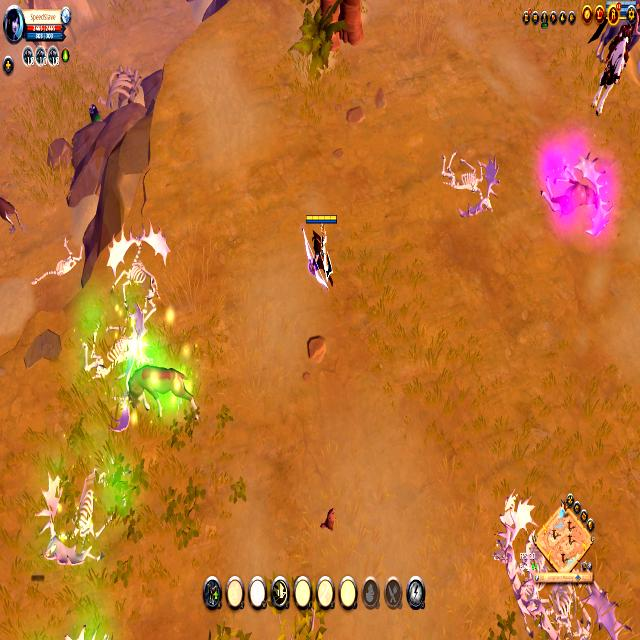mob: (538, 152, 614, 236)
ore: (109, 323, 204, 438), (0, 184, 24, 240)
player: (85, 99, 106, 124)
red: (593, 0, 640, 108), (302, 210, 338, 290)
